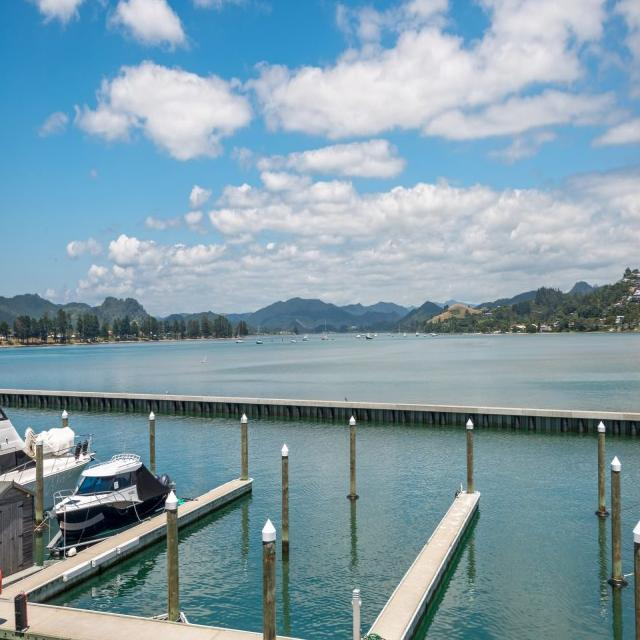houseboat: (44, 472, 184, 552)
